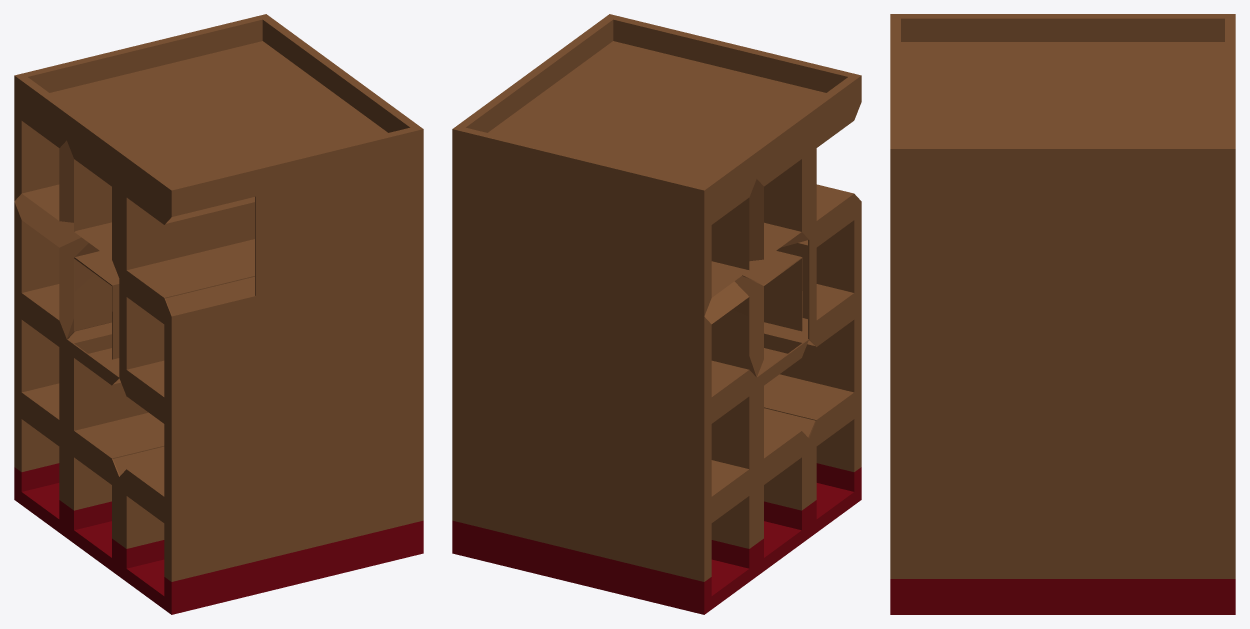
Rendered from 08 Building_1.FBX.
3 renders of one model, left to right at view 1: azimuth 30°, elevation 25°; view 2: azimuth 150°, elevation 25°; view 3: azimuth 270°, elevation 25°, orthographic. The views are drawn at different scales.
Parts seen in each view (by area): view 1: Building_1; view 2: Building_1; view 3: Building_1.
Boxes of the visible parts, left/top/right/bottom form: Building_1: left=14, top=14, right=423, bottom=614; Building_1: left=452, top=14, right=861, bottom=614; Building_1: left=890, top=14, right=1235, bottom=614.
Bounding box in the file's own units: 1988 × 3200 × 2150.
